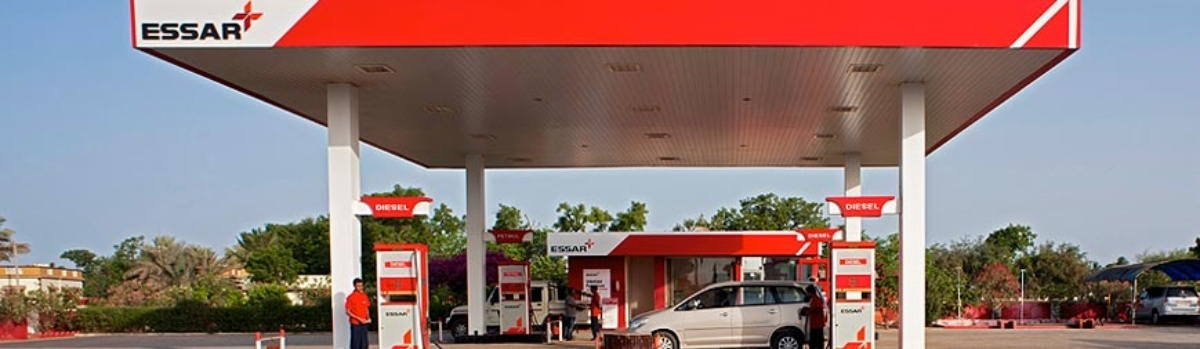text: (145, 23, 160, 41), (161, 23, 176, 41), (177, 23, 192, 41), (193, 23, 208, 41), (209, 23, 224, 41), (225, 23, 240, 41), (385, 309, 400, 319), (849, 307, 865, 315), (561, 245, 576, 253), (849, 202, 864, 210), (865, 202, 880, 210), (385, 203, 400, 210), (401, 309, 411, 319), (241, 23, 245, 41), (551, 245, 560, 253), (577, 245, 586, 253), (840, 307, 848, 315), (375, 203, 384, 210), (401, 203, 409, 210), (141, 23, 144, 41), (846, 202, 848, 210)
